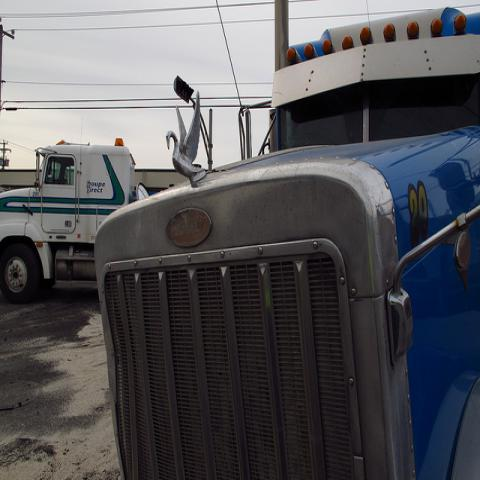truck: (94, 5, 479, 474), (0, 138, 185, 310)
